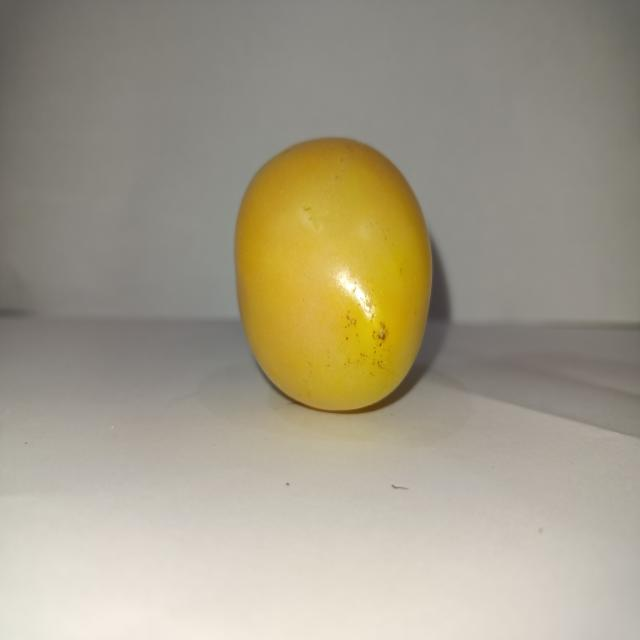Red: (232, 135, 434, 413)
